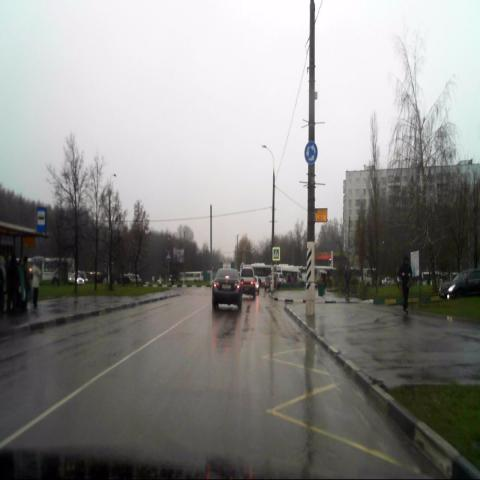4_3: (304, 141, 318, 165)
